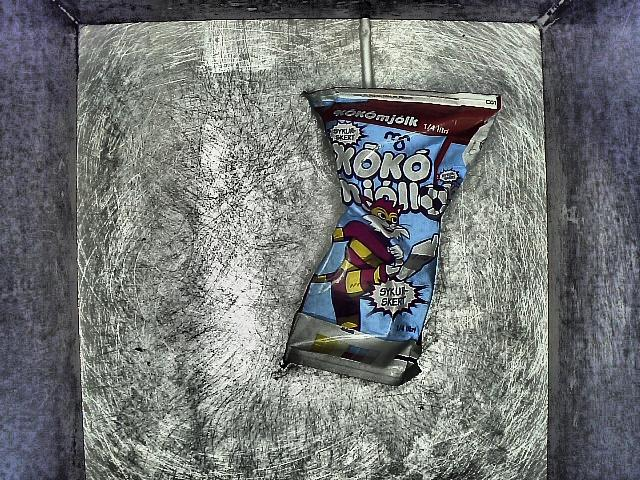Paper: (269, 15, 520, 415)
